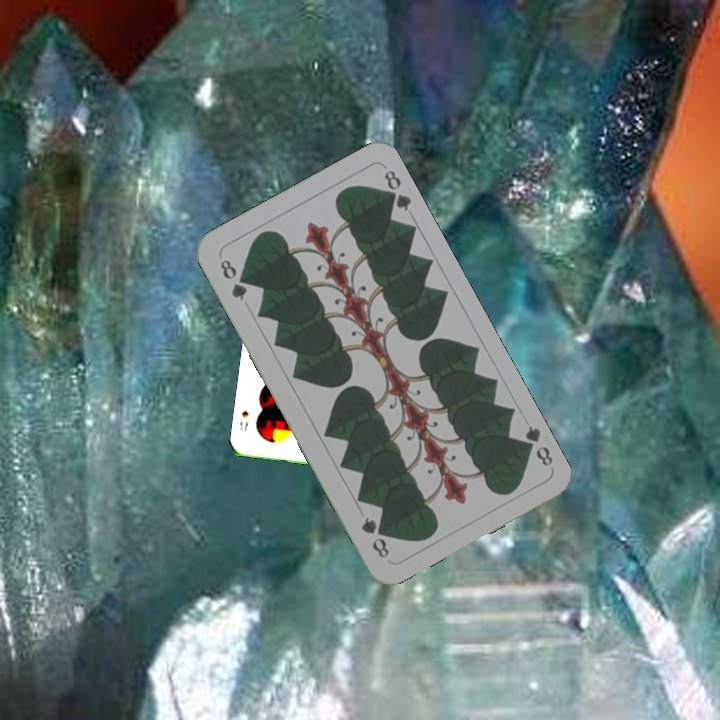G8: (516, 421, 556, 469), (215, 255, 250, 304)
